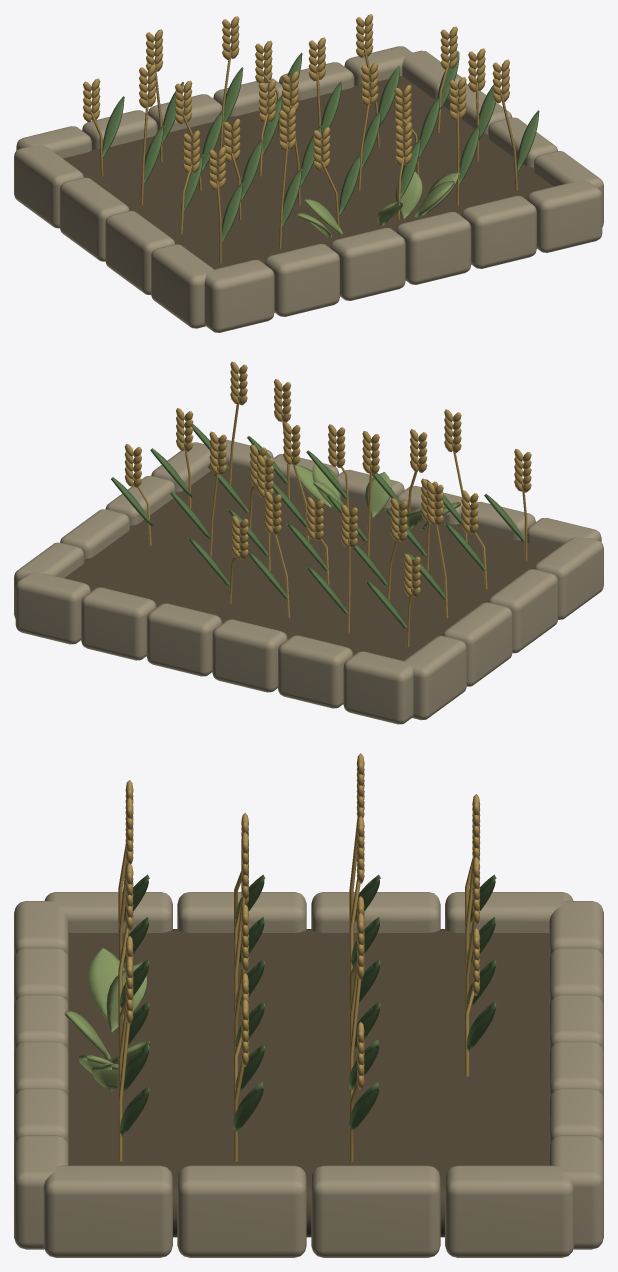
Rendered from wheat_garden_atelier.glb.
3 renders of one model, top to bottom at view 1: azimuth 30°, elevation 25°; view 2: azimuth 150°, elevation 25°; view 3: azimuth 270°, elevation 25°, orthographic. The views are drawn at different scales.
Visible parts, largest first — view 1: wheat_garden_atelier__TaggedPainted_Wheat_Matte; view 2: wheat_garden_atelier__TaggedPainted_Wheat_Matte; view 3: wheat_garden_atelier__TaggedPainted_Wheat_Matte.
Part boxes in pixels (x1,y1,x2,y2): wheat_garden_atelier__TaggedPainted_Wheat_Matte: (14, 14, 603, 332); wheat_garden_atelier__TaggedPainted_Wheat_Matte: (14, 361, 603, 724); wheat_garden_atelier__TaggedPainted_Wheat_Matte: (14, 753, 603, 1257).
Bounding box in the file's own units: 2.31 × 0.9153 × 1.94.
